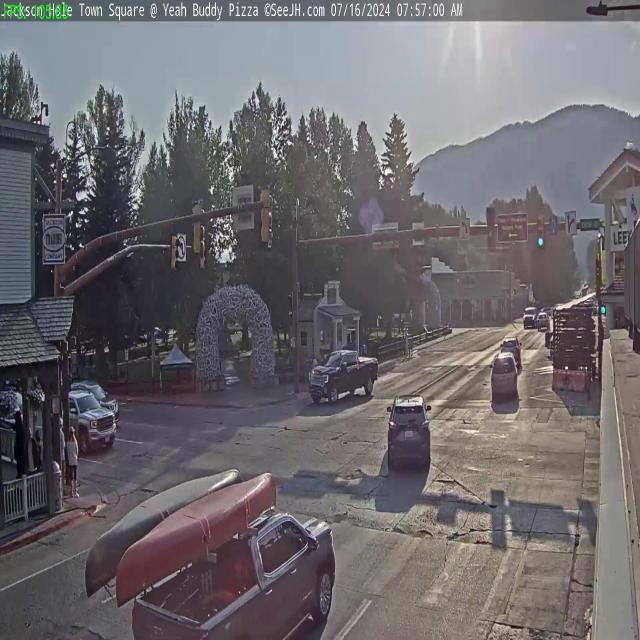person: (24, 427, 40, 492), (54, 416, 67, 491), (65, 421, 78, 495), (35, 426, 44, 484)
pickup: (118, 466, 338, 640), (51, 390, 115, 452), (308, 349, 379, 404)
suv: (385, 392, 432, 469), (74, 378, 121, 426), (490, 350, 518, 400)
traffic light: (260, 183, 272, 246), (190, 199, 203, 256), (486, 207, 496, 250), (170, 233, 179, 272), (536, 215, 546, 248)
